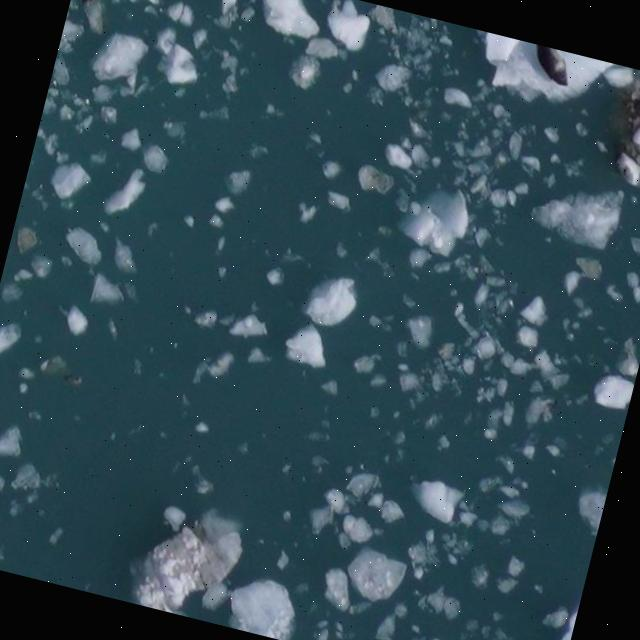seal: (534, 46, 568, 86)
